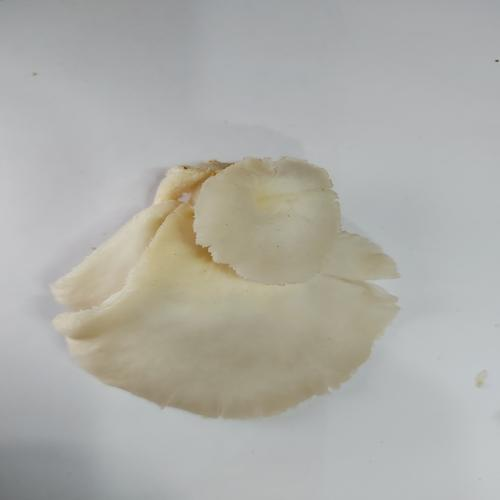Oyster Mushroom: (50, 155, 402, 420)
